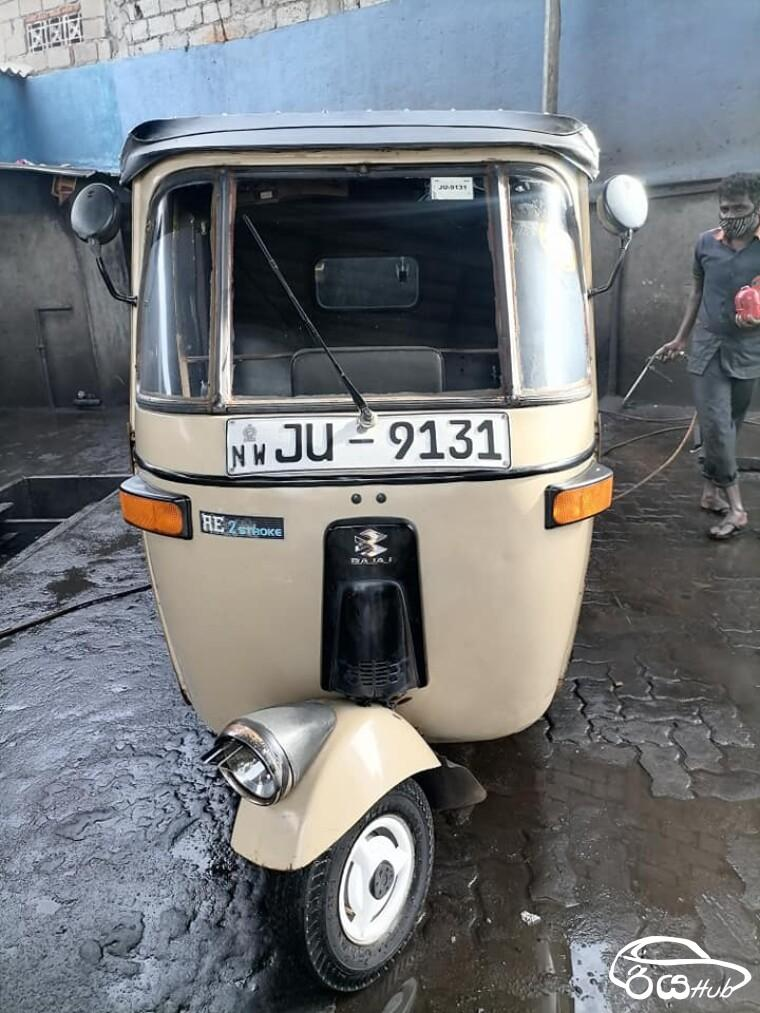threewheel: (69, 110, 644, 1000)
